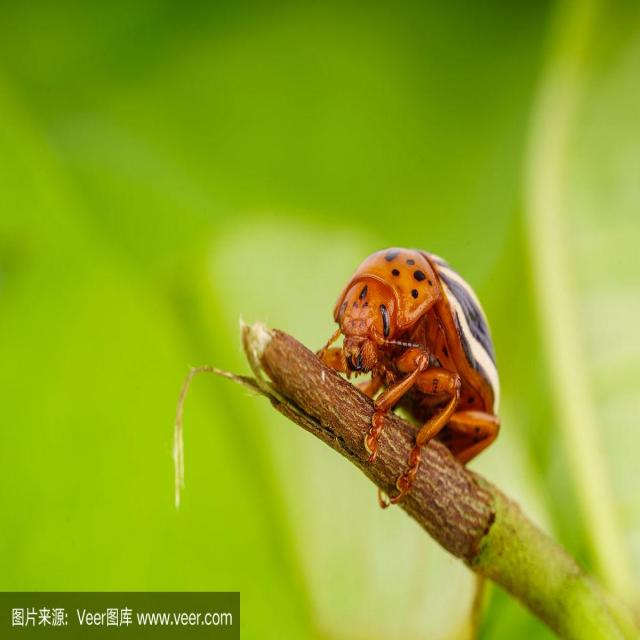ShuCaiHuaBanChong-Grown-: (322, 224, 522, 476)
